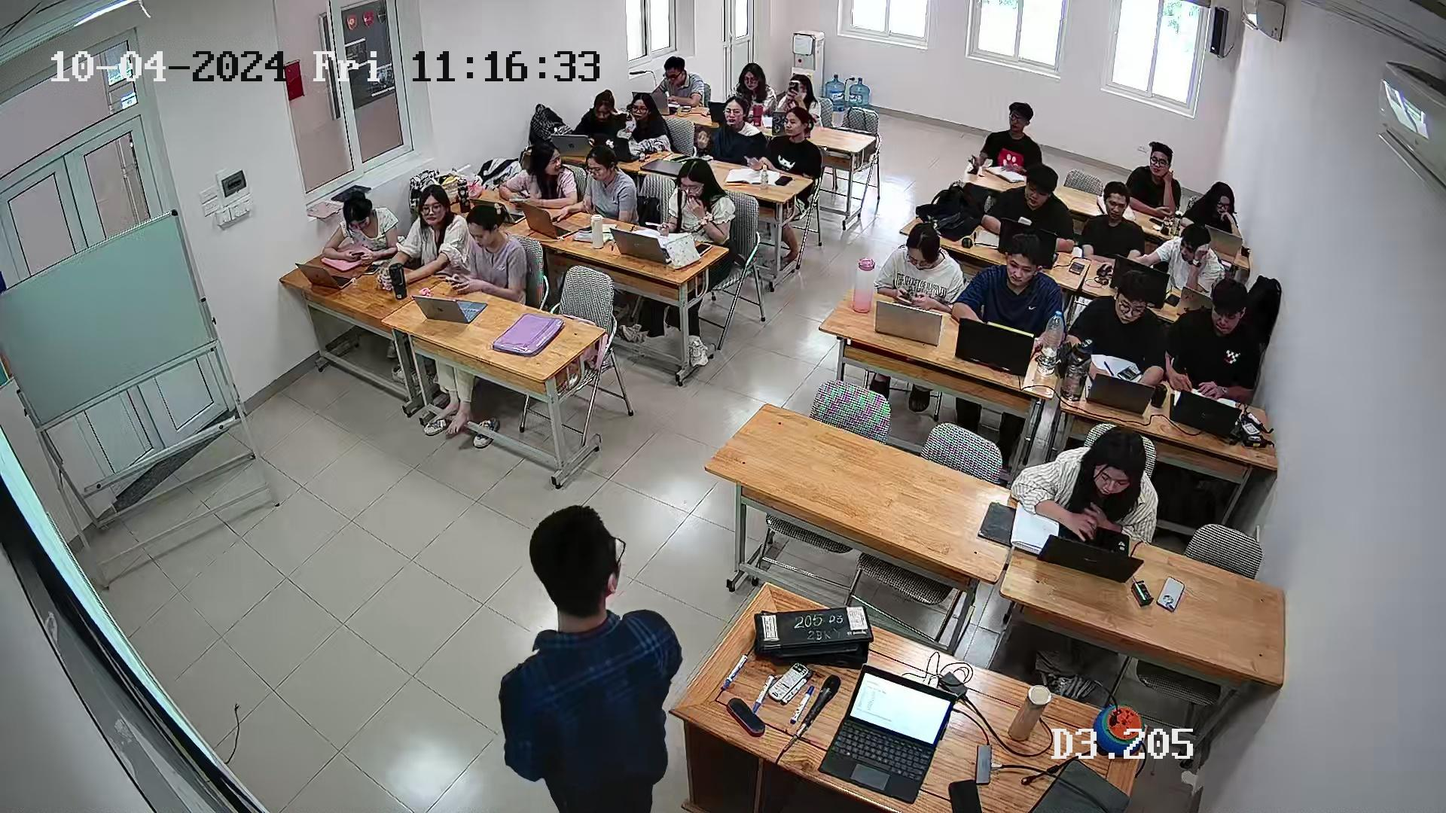Look Around: (500, 142, 576, 207)
Stand Up: (478, 495, 674, 813)
phone: (440, 269, 487, 304), (338, 242, 377, 267), (896, 282, 919, 308), (786, 74, 803, 100)
